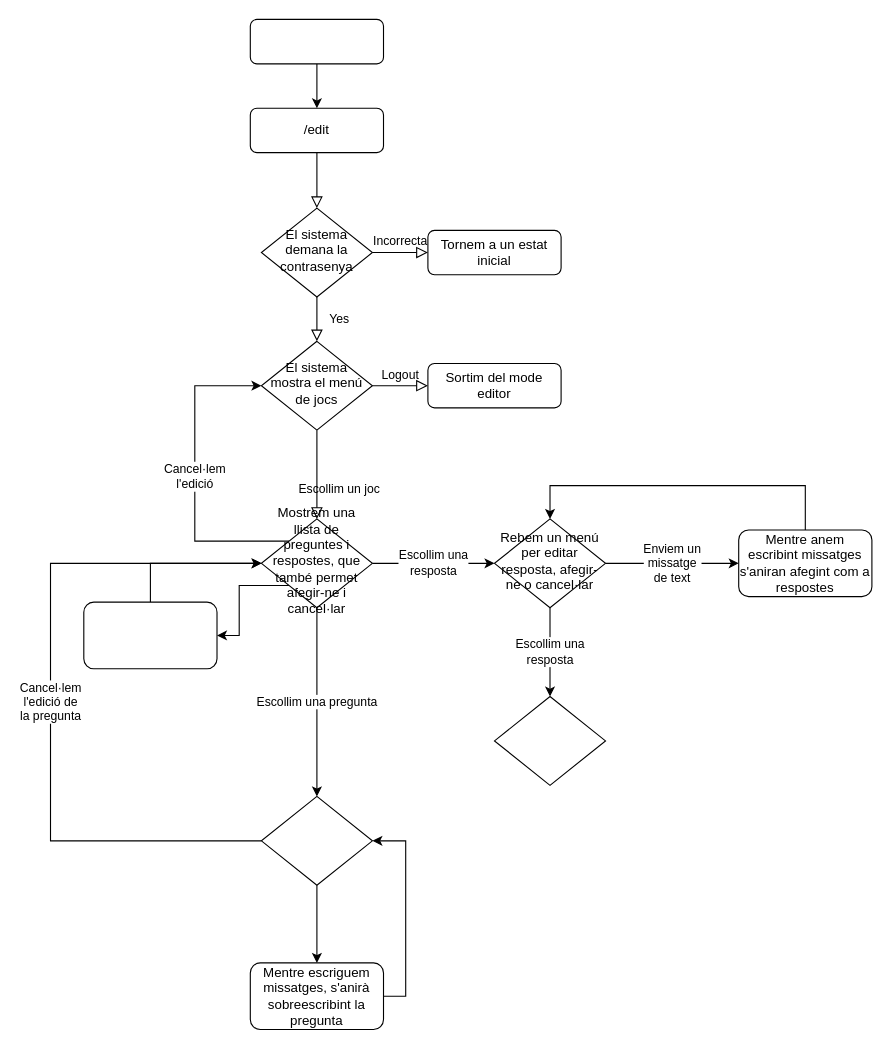
Some shapes in this 891 by 1049 pixel diagram are drawn without their labels. The centre of each missing label's shape, as x and y in pixels:
Entrem al joc en privat: (316,41)
Mentre anem enviant missatges s'afegiran com a preguntes: (150,635)
Rebem un menú per editar la pregunta, esborrar-la o cancel·lar: (316,840)
Tindrem la opció d'esborrar-la, canviar-la pel text escrit, o cancel·lar: (549,740)
